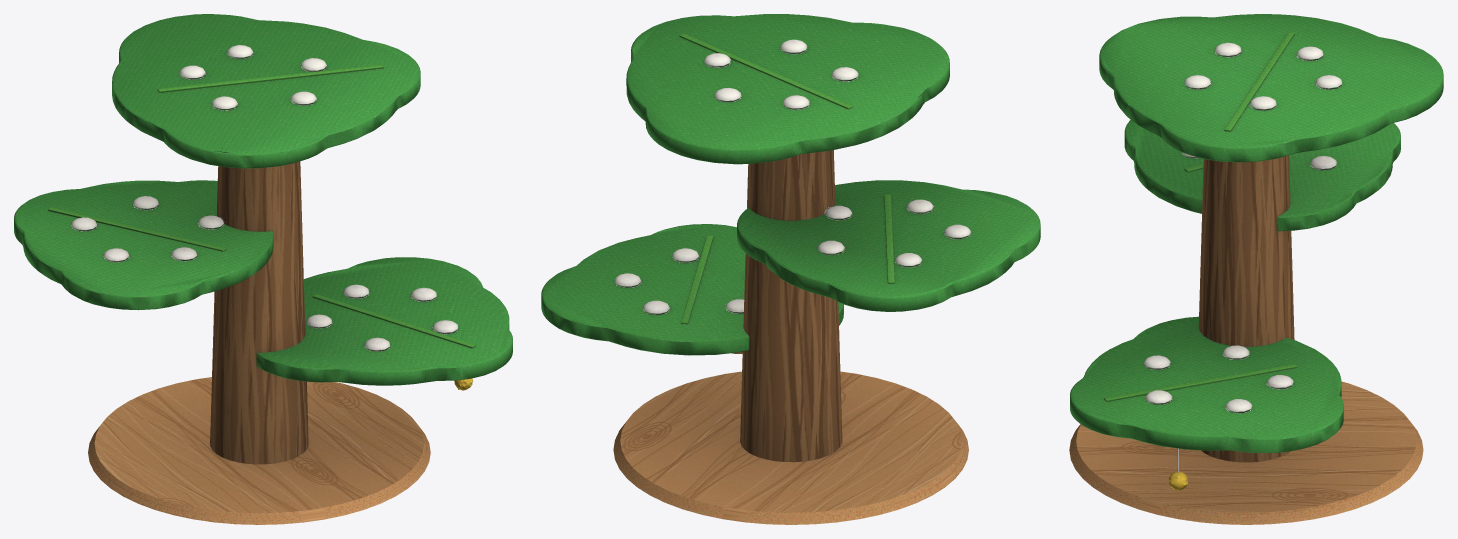
File: snow_tree.glb
3 views of the same model, side by side, from view 1: azimuth 30°, elevation 25°; view 2: azimuth 150°, elevation 25°; view 3: azimuth 270°, elevation 25° (orthographic). The views are drawn at different scales.
Visible parts, largest first — view 1: snow_tree; view 2: snow_tree; view 3: snow_tree.
Boxes of the visible parts, <box> form: snow_tree: <box>14,14,512,524</box>; snow_tree: <box>541,14,1040,524</box>; snow_tree: <box>1069,14,1443,524</box>.
Bounding box in the file's own units: 1.52 × 1.24 × 1.1.
1 material, 1 textured.
